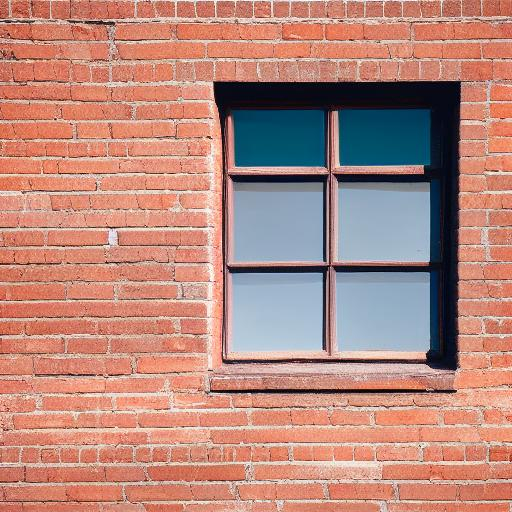Window: (209, 80, 461, 392)
